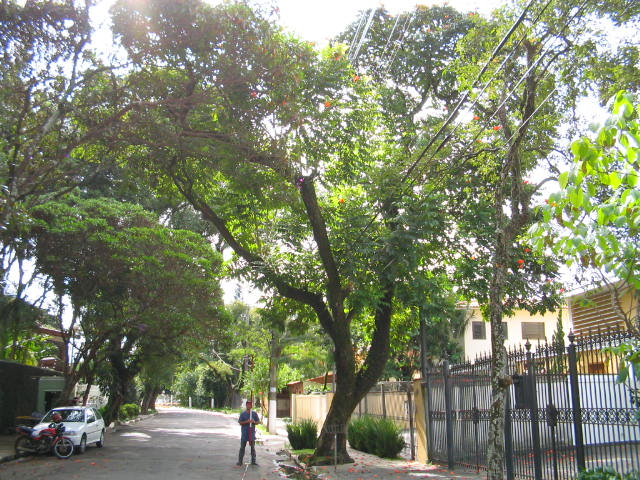stem: (309, 381, 380, 462)
stick: (245, 354, 260, 464)
tree: (125, 1, 485, 464)
